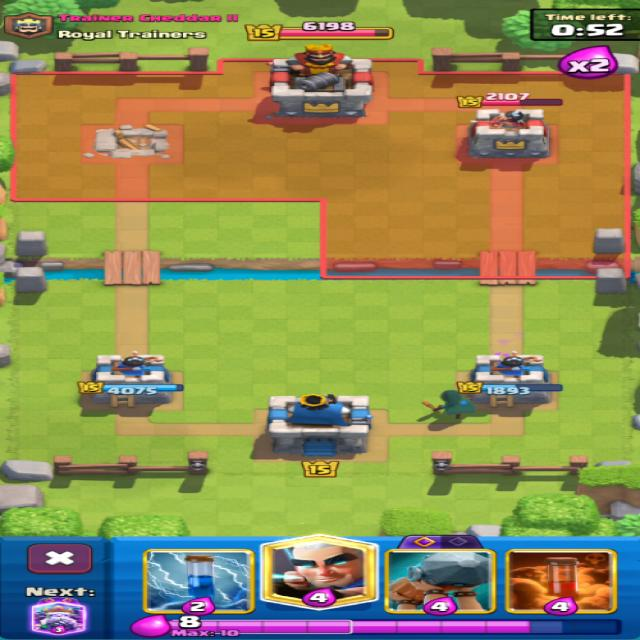Enemy-KingTower-Activated: (268, 44, 371, 116)
Enemy-PrincessTower: (467, 108, 549, 158)
Player-Bandit: (422, 390, 475, 419)
Player-KingTower: (266, 393, 372, 455)
Player-PrincessTower: (78, 351, 183, 406), (457, 351, 561, 406)
